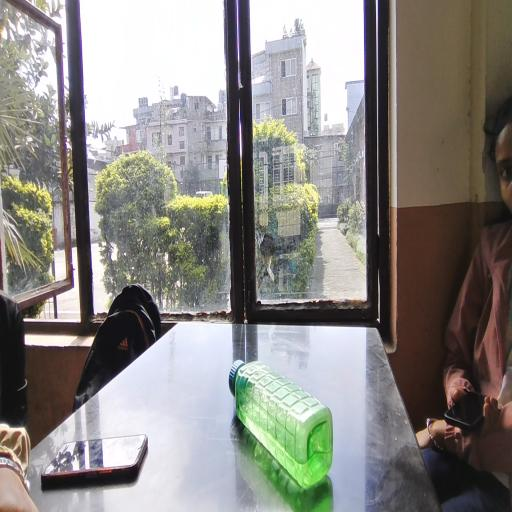Bottle: (218, 363, 350, 491)
